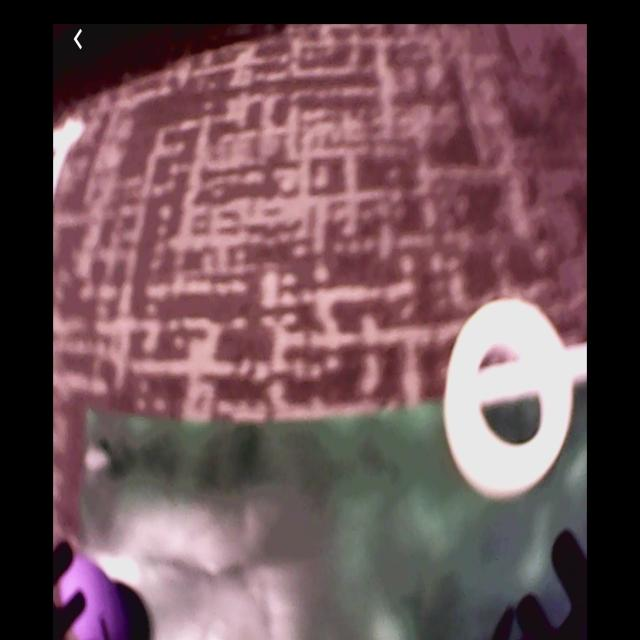ball: (57, 547, 128, 640)
